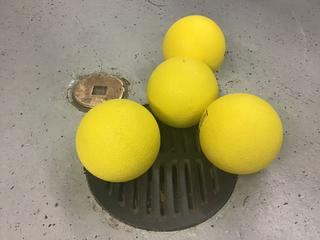power_cell: (200, 90, 289, 179), (80, 97, 159, 182), (151, 56, 220, 129), (165, 18, 231, 74)
